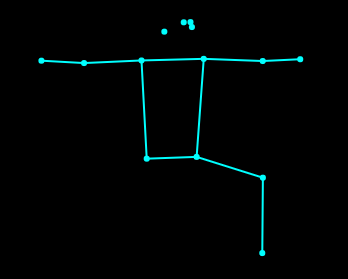warrior_2: (32, 13, 308, 265)
